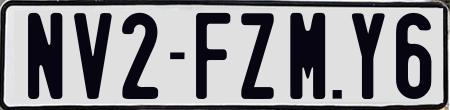2: (122, 10, 160, 101)
6: (394, 12, 429, 104)
F: (196, 10, 236, 96)
M: (287, 13, 323, 100)
N: (28, 13, 65, 104)
V: (74, 12, 113, 104)
Y: (350, 12, 386, 101)
Z: (240, 12, 276, 100)
